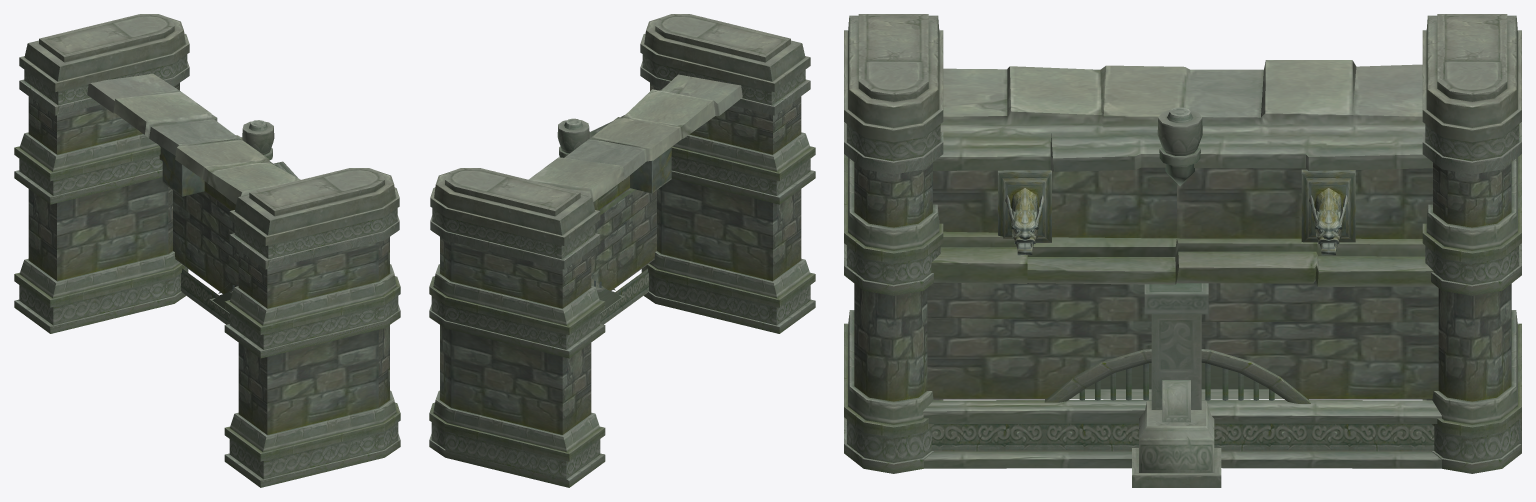
The model's file is wlf_qiang03_w.FBX.
The picture shows the model from 3 angles, left to right: view 1: azimuth 30°, elevation 25°; view 2: azimuth 150°, elevation 25°; view 3: azimuth 270°, elevation 25°; orthographic projection. The views are drawn at different scales.
Visible parts, largest first — view 1: wlf_qiang03_w; view 2: wlf_qiang03_w; view 3: wlf_qiang03_w.
Part boxes in pixels (bbox=[...]): wlf_qiang03_w: bbox=[14, 14, 400, 487]; wlf_qiang03_w: bbox=[429, 14, 815, 487]; wlf_qiang03_w: bbox=[844, 14, 1521, 487].
Bounding box in the file's own units: 28.67 × 41.8 × 69.56.
